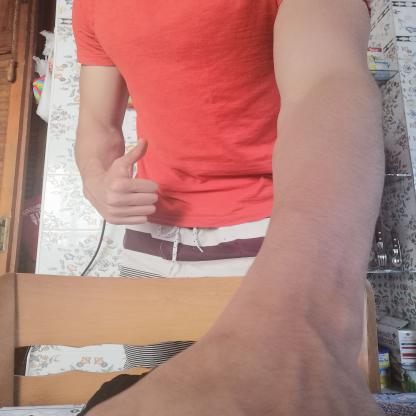ALIF: (85, 130, 171, 233)
